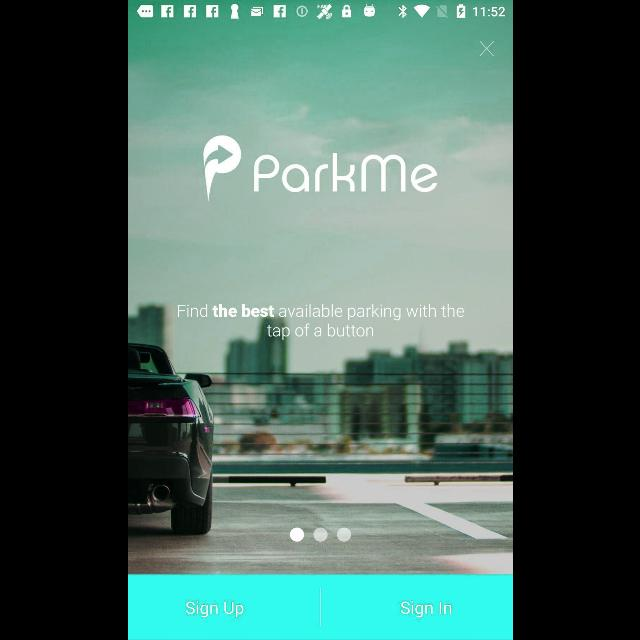backgroundimage: (128, 23, 512, 574)
icon: (478, 41, 494, 57)
image: (202, 136, 438, 202)
pageindicator: (288, 528, 352, 542)
text: (176, 304, 464, 341), (185, 600, 245, 618), (400, 600, 452, 616)
textbutton: (127, 574, 319, 640), (320, 574, 512, 640)
uppertaskbar: (128, 1, 512, 23)
